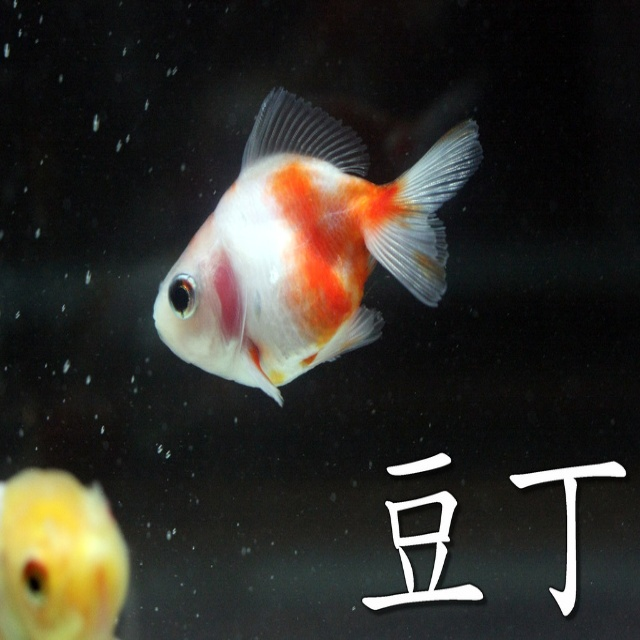Goldfish: (150, 86, 476, 402), (0, 464, 129, 639)
